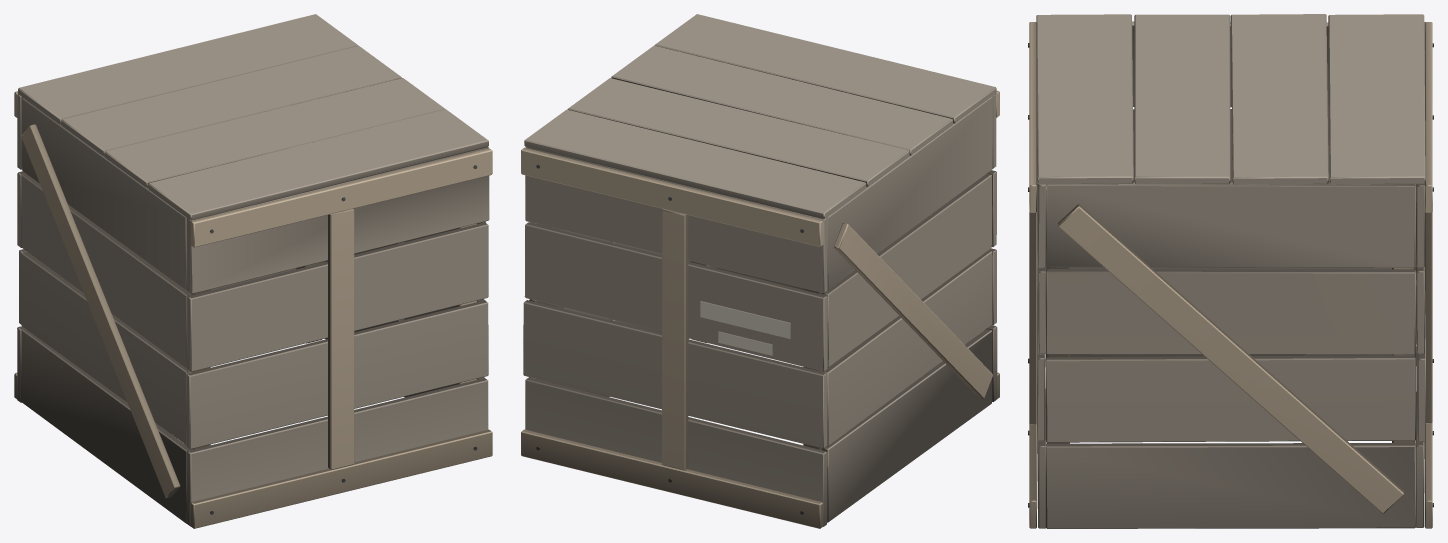
The model's file is crate_slat.glb.
3 renders of one model, left to right at view 1: azimuth 30°, elevation 25°; view 2: azimuth 150°, elevation 25°; view 3: azimuth 270°, elevation 25°, orthographic. The views are drawn at different scales.
Parts seen in each view (by area): view 1: static; view 2: static; view 3: static.
Part boxes in pixels (box(x1,y1,x2,y2)): static: box(14, 14, 492, 528); static: box(521, 14, 999, 528); static: box(1028, 14, 1433, 528).
Size of the model in its own units: 1.04 by 1 by 1.05.
